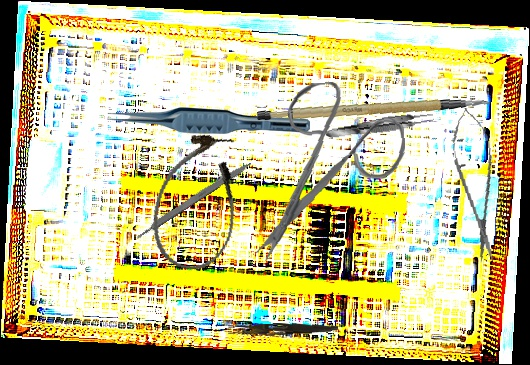Cannula: (142, 126, 253, 278)
Dressing Forceps: (227, 320, 339, 338)
Iris Scissors: (243, 77, 413, 262)
Micro Scissor: (445, 105, 508, 265)
Scalpel Handle: (256, 78, 493, 144), (133, 158, 253, 241)
Tissue Forceps: (107, 106, 310, 134), (324, 109, 435, 142)
